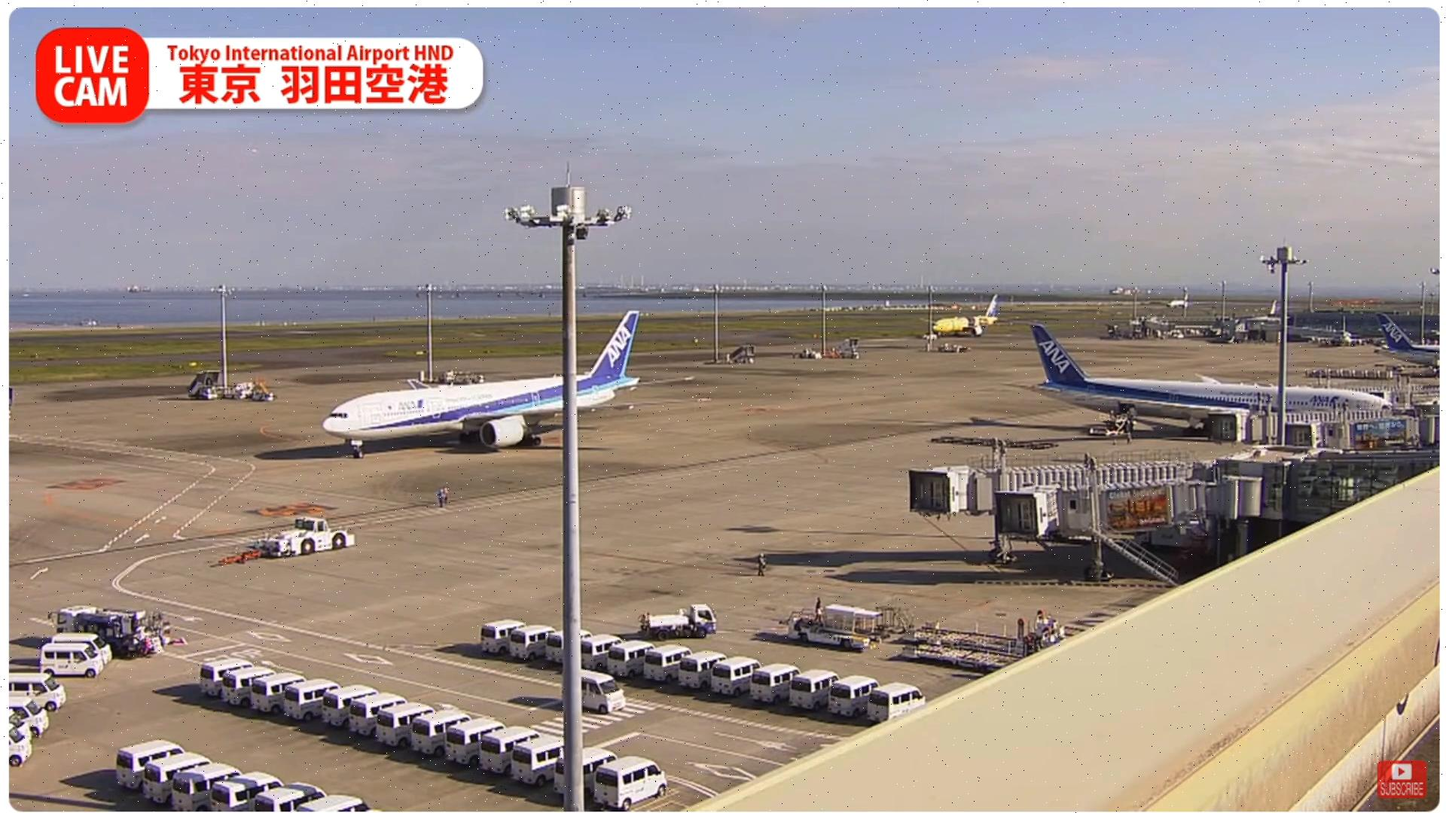APS: (267, 511, 370, 557)
Aerobridge: (908, 461, 1213, 518), (992, 480, 1243, 538)
Airplane: (322, 307, 723, 458)
JCPL: (902, 604, 1066, 650), (907, 629, 1080, 672)
Skyloader: (776, 599, 898, 655)
Window: (1270, 448, 1442, 536)
